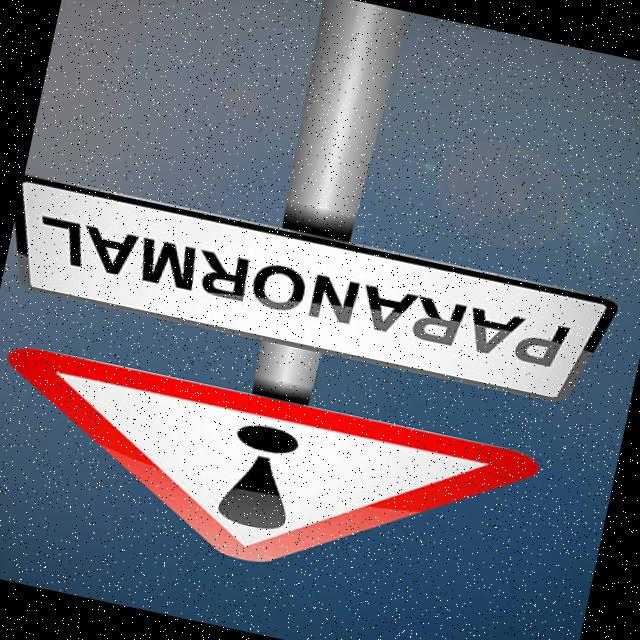warning: (0, 318, 547, 632)
